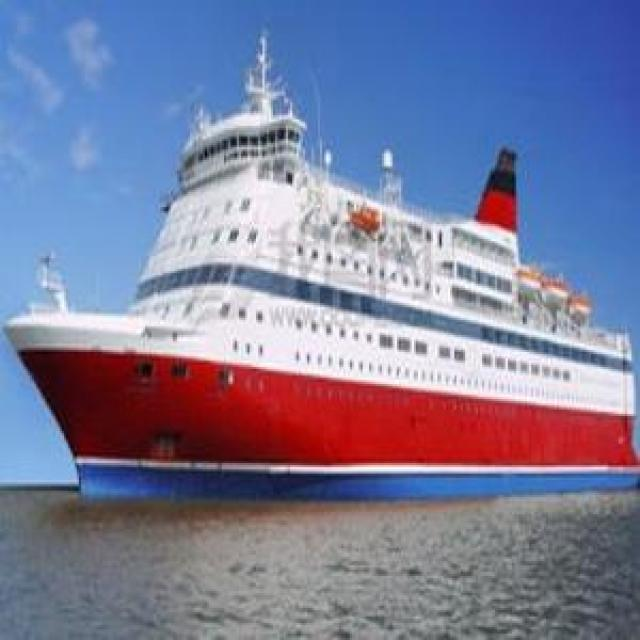passenger ship: (7, 60, 640, 520)
